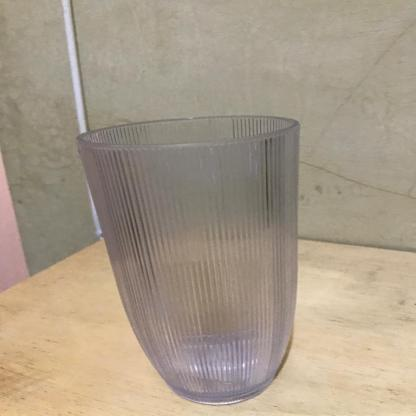glass: (82, 112, 337, 412)
